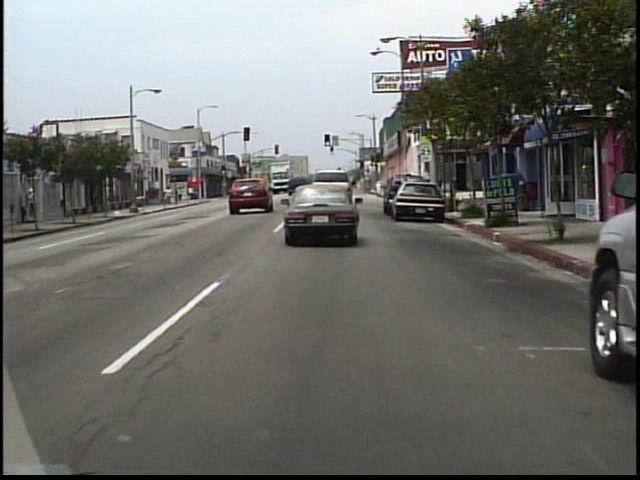person: (28, 184, 38, 222), (166, 185, 174, 205), (175, 186, 181, 204)
